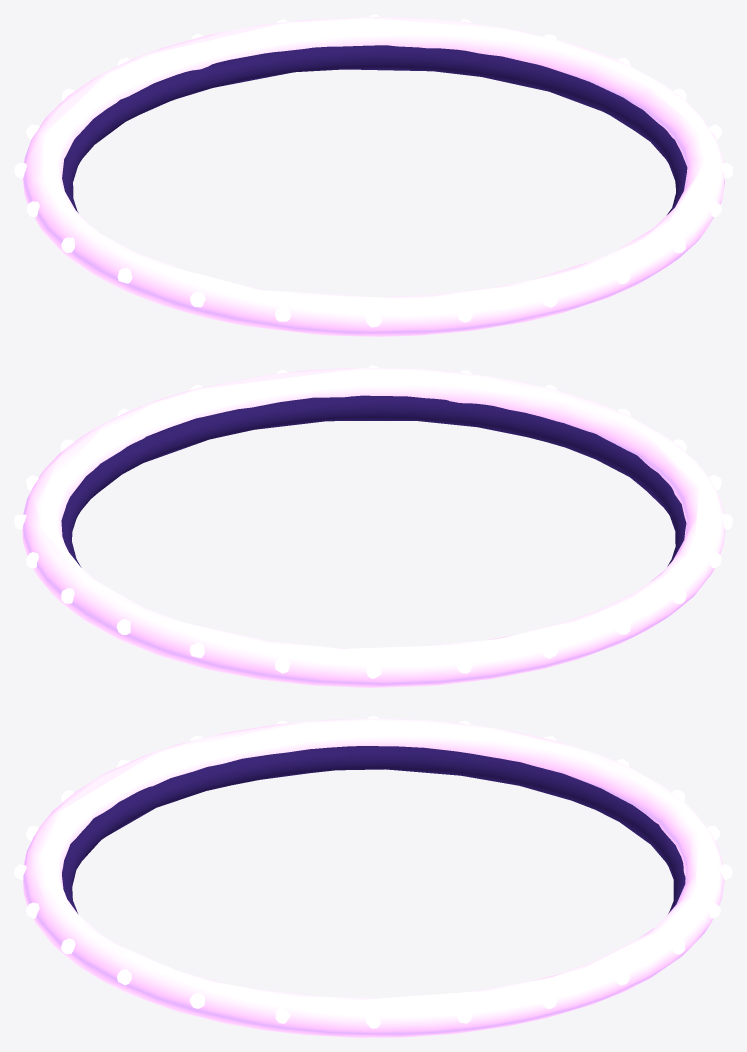
The model's file is hole_rim.glb.
3 renders of one model, top to bottom at view 1: azimuth 30°, elevation 25°; view 2: azimuth 150°, elevation 25°; view 3: azimuth 270°, elevation 25°, orthographic.
Parts seen in each view (by area): view 1: hole_rim; view 2: hole_rim; view 3: hole_rim.
Boxes of the visible parts, box(x1,y1,x2,y2) form: hole_rim: box(14, 14, 732, 336); hole_rim: box(14, 365, 732, 687); hole_rim: box(14, 716, 732, 1037).
Size of the model in its own units: 2.16 by 0.1396 by 2.17.
1 material, 1 textured.
